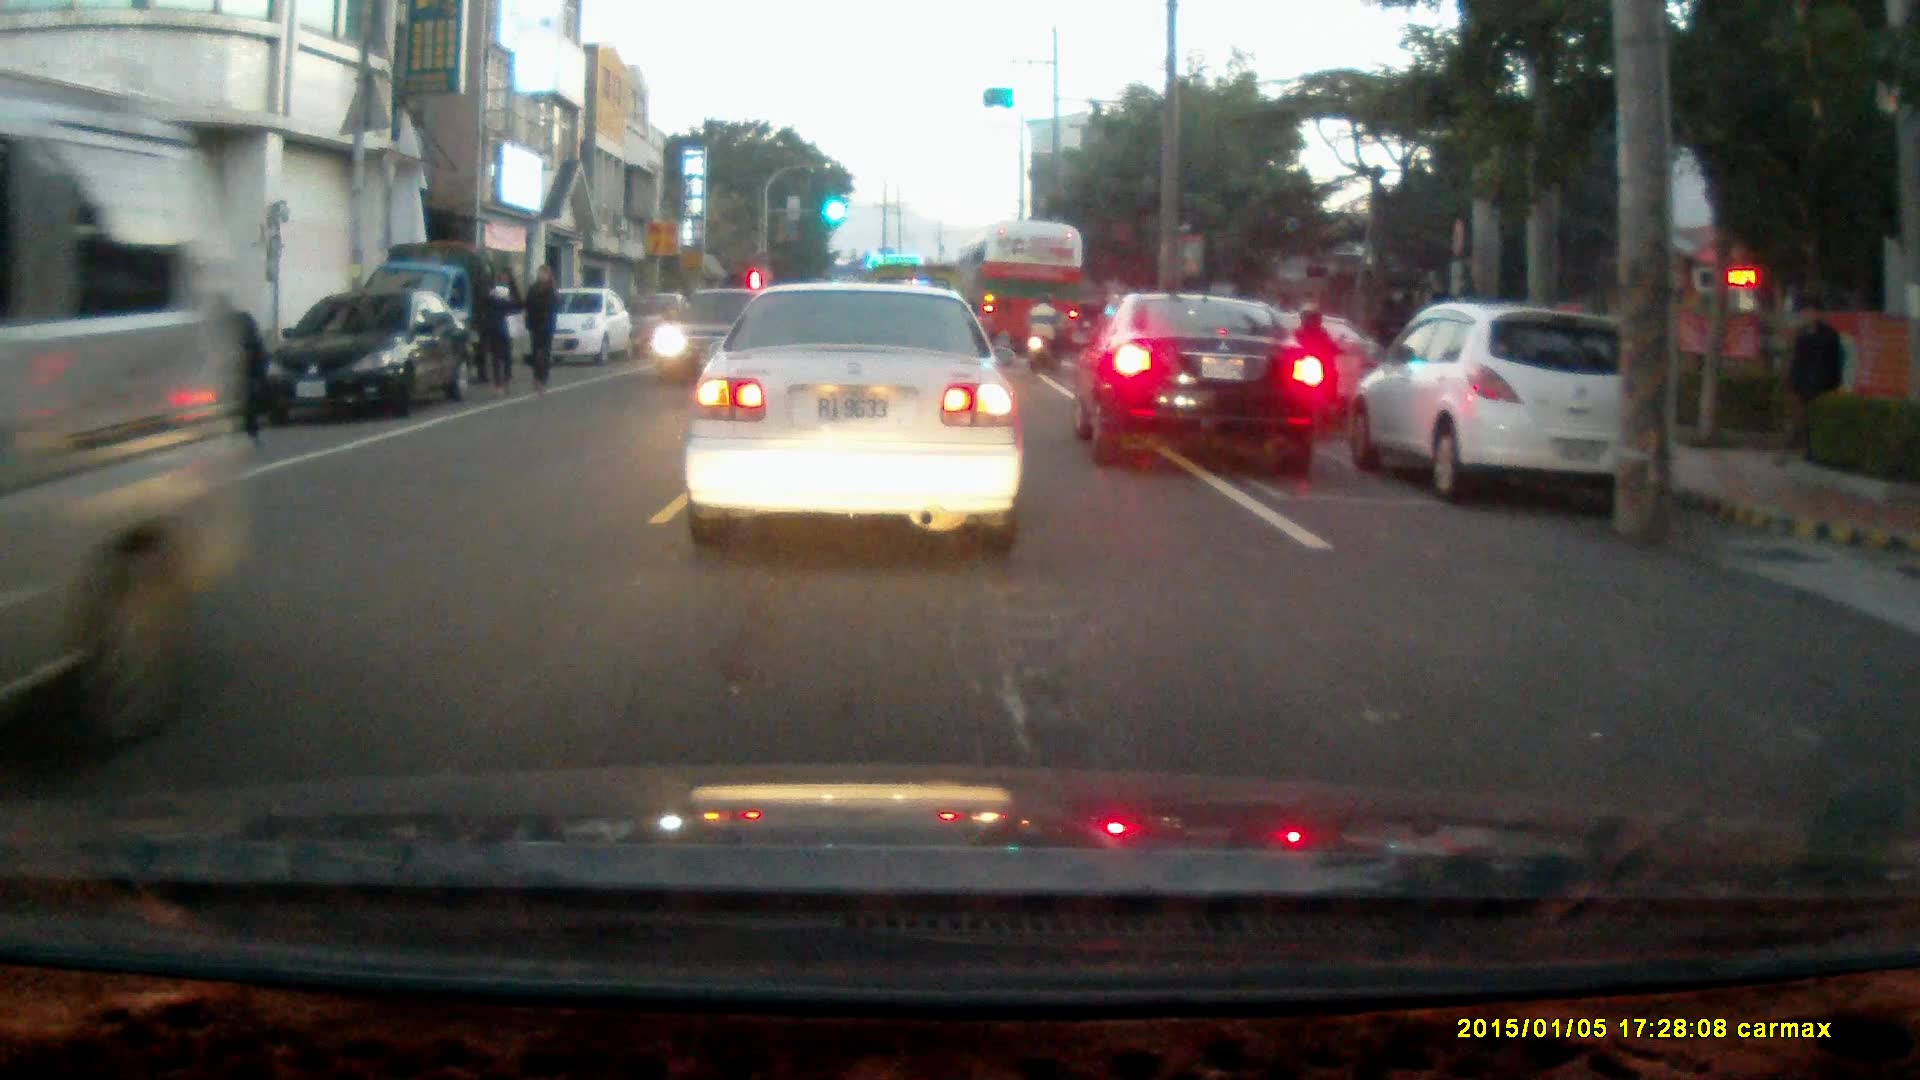pedestrian: (202, 289, 268, 468), (1785, 290, 1846, 464), (478, 265, 522, 398), (520, 261, 559, 399)
rider: (1290, 300, 1347, 445), (1024, 293, 1062, 372)
vehicle: (1, 107, 251, 765), (680, 282, 1028, 558), (1346, 298, 1665, 506), (1071, 293, 1319, 476), (273, 284, 471, 424), (364, 238, 521, 393), (962, 220, 1090, 366), (657, 281, 751, 384), (516, 285, 635, 364)
